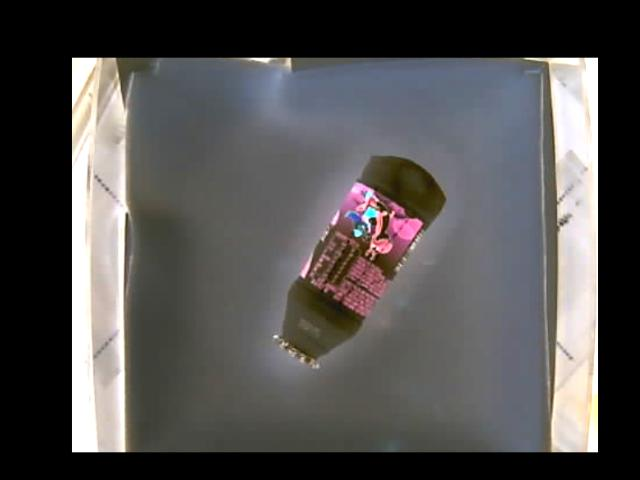Bottle: (278, 151, 448, 369)
